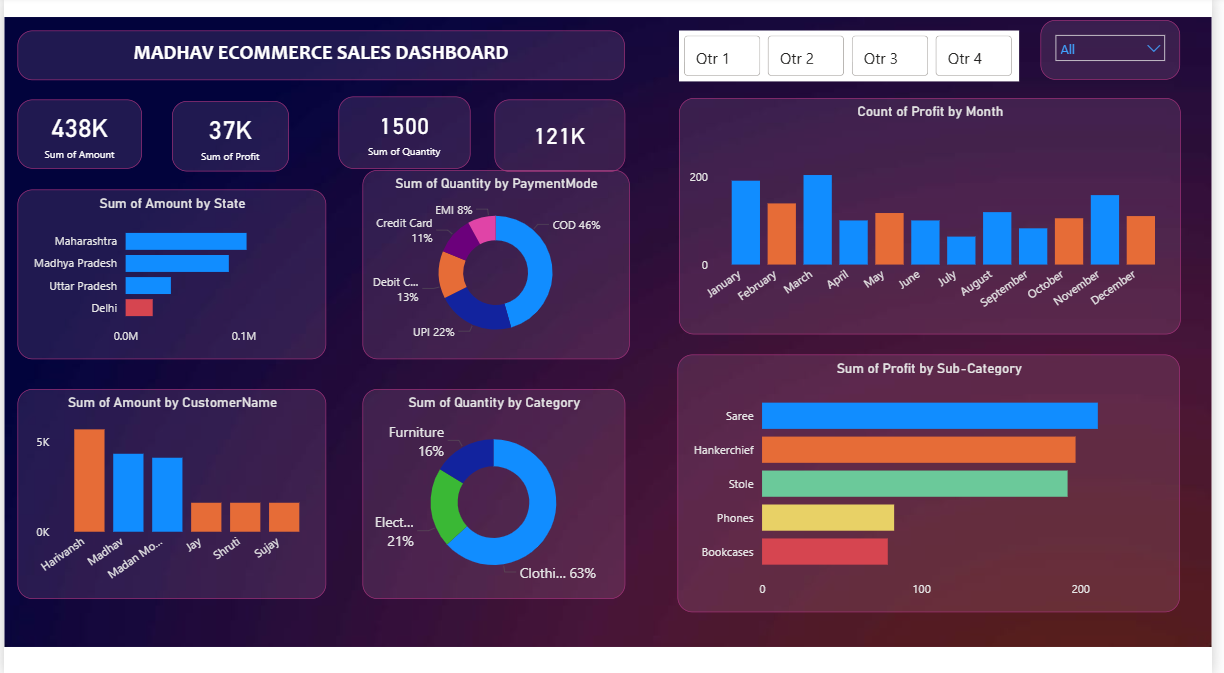

This screenshot's page, from the dashboard's own definition file:
{"tool":"powerbi","page":{"name":"Page 1","canvas":[1280,720],"ordinal":0},"visuals":[{"type":"clusteredColumnChart","fields":{"Category":["Orders.Order Date.Variation.Date Hierarchy.Month"],"Y":["CountNonNull(Details.Profit)"]},"box":[715,107.6,531.8,251],"z":0},{"type":"clusteredBarChart","fields":{"Category":["Details.Sub-Category"],"Y":["CountNonNull(Details.Profit)"]},"box":[714.2,380.2,532.9,273.6],"z":1000},{"type":"donutChart","fields":{"Category":["Details.Category"],"Y":["CountNonNull(Details.Quantity)"]},"box":[380.2,416.7,278.4,222.7],"z":2000},{"type":"donutChart","fields":{"Y":["CountNonNull(Details.Quantity)"],"Category":["Details.PaymentMode"]},"box":[380.2,184.5,283.1,200.4],"z":3000},{"type":"card","fields":{"Values":["Sum(Details.Amount)"]},"box":[14.3,109.8,132,73.2],"z":4000},{"type":"card","fields":{"Values":["Sum(Details.Profit)"]},"box":[178.1,111.3,124.1,74.8],"z":5000},{"type":"card","fields":{"Values":["CountNonNull(Details.Quantity)"]},"box":[354.7,106.6,140,76.3],"z":6000},{"type":"card","fields":{"Values":["Sum(Details.AOV)"]},"box":[520.1,109.8,138.4,76.3],"z":7000},{"type":"clusteredBarChart","fields":{"Category":["Orders.State"],"Y":["Sum(Details.Amount)"]},"box":[14.3,205.2,327.7,179.7],"z":8000},{"type":"columnChart","fields":{"Y":["Sum(Details.Amount)"],"Category":["Orders.CustomerName"]},"box":[14.3,416.7,327.7,222.7],"z":9000},{"type":"textbox","box":[14.3,36.6,644.2,52.5],"z":10000},{"type":"advancedSlicerVisual","fields":{"Values":["Orders.Order Date.Variation.Date Hierarchy.Quarter"]},"box":[715,35.9,360.5,53.8],"z":11000},{"type":"slicer","fields":{"Values":["Orders.State"]},"box":[1099.1,25.4,147.9,63.6],"z":12000}]}

Visuals, with their boxes in screenshot pixels (x1, y1, x2, y2), scaled from the page's 1280x720 canvas onto the 1224x673 screenshot:
clusteredColumnChart - Orders.Order Date.Variation.Date Hierarchy.Month x CountNonNull(Details.Profit): pyautogui.locateOnScreen(684, 101, 1192, 335)
clusteredBarChart - Details.Sub-Category x CountNonNull(Details.Profit): pyautogui.locateOnScreen(683, 355, 1193, 611)
donutChart - Details.Category x CountNonNull(Details.Quantity): pyautogui.locateOnScreen(364, 389, 630, 598)
donutChart - CountNonNull(Details.Quantity) x Details.PaymentMode: pyautogui.locateOnScreen(364, 172, 634, 360)
card - Sum(Details.Amount): pyautogui.locateOnScreen(14, 103, 140, 171)
card - Sum(Details.Profit): pyautogui.locateOnScreen(170, 104, 289, 174)
card - CountNonNull(Details.Quantity): pyautogui.locateOnScreen(339, 100, 473, 171)
card - Sum(Details.AOV): pyautogui.locateOnScreen(497, 103, 630, 174)
clusteredBarChart - Orders.State x Sum(Details.Amount): pyautogui.locateOnScreen(14, 192, 327, 360)
columnChart - Sum(Details.Amount) x Orders.CustomerName: pyautogui.locateOnScreen(14, 389, 327, 598)
textbox: pyautogui.locateOnScreen(14, 34, 630, 83)
advancedSlicerVisual - Orders.Order Date.Variation.Date Hierarchy.Quarter: pyautogui.locateOnScreen(684, 34, 1028, 84)
slicer - Orders.State: pyautogui.locateOnScreen(1051, 24, 1192, 83)
